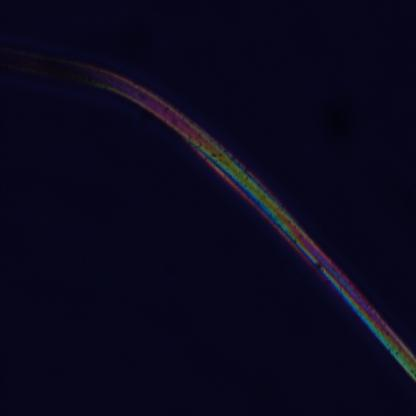Microfibre: (0, 49, 416, 387)
